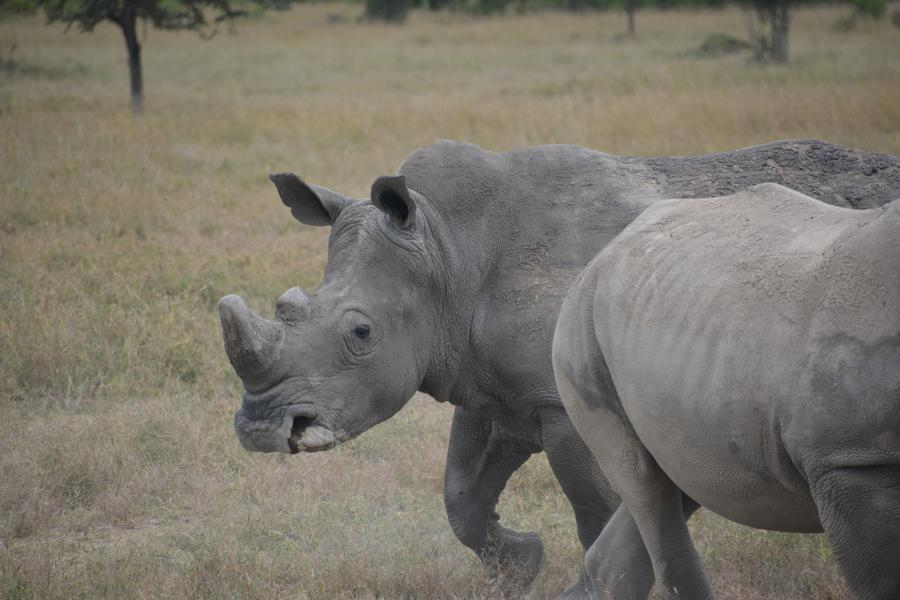rhino: (242, 132, 612, 516), (600, 200, 893, 559)
